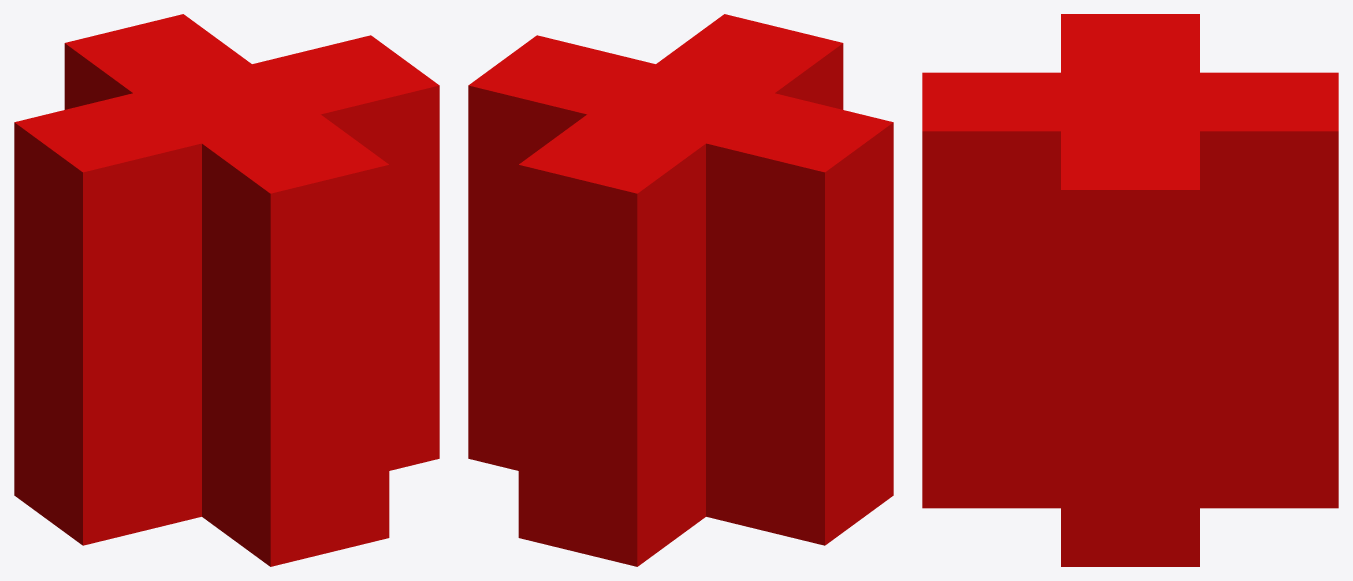
The model's file is wall_cross_5.fbx.
3 views of the same model, side by side, from view 1: azimuth 30°, elevation 25°; view 2: azimuth 150°, elevation 25°; view 3: azimuth 270°, elevation 25° (orthographic).
Parts seen in each view (by area): view 1: wall_cross_5; view 2: wall_cross_5; view 3: wall_cross_5.
Part boxes in pixels (x1=…): wall_cross_5: x1=14, y1=14, x2=439, y2=566; wall_cross_5: x1=468, y1=14, x2=893, y2=566; wall_cross_5: x1=922, y1=14, x2=1338, y2=566.
Bounding box in the file's own units: 3 × 3 × 3.
